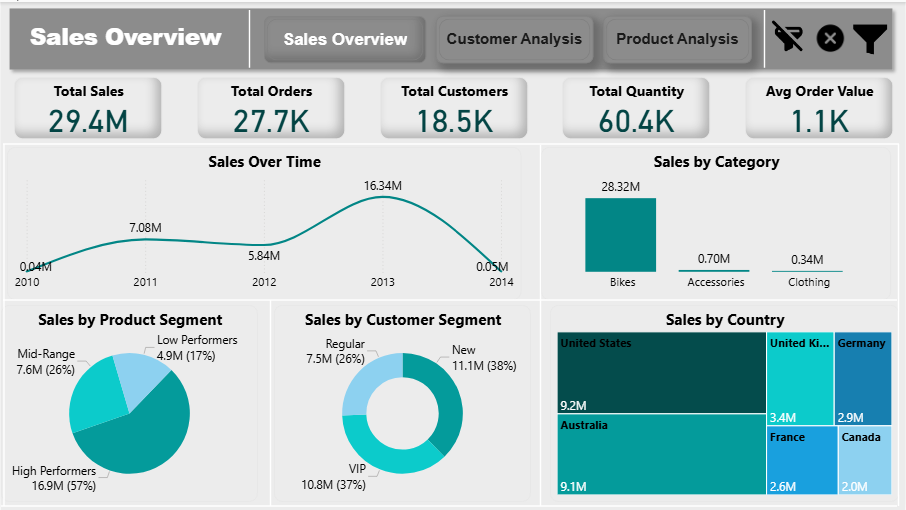

This screenshot's page, from the dashboard's own definition file:
{"tool":"powerbi","page":{"name":"Sales Overview","canvas":[1280,720],"ordinal":0},"visuals":[{"type":"shape","box":[2.8,0,1269.9,104.9],"z":0,"group":"g1"},{"type":"card","title":"Total Sales","fields":{"Values":["All_Measures.Total Sales"]},"box":[18.4,107,209.8,87.9],"z":0},{"type":"textbox","box":[18.4,21.3,316.1,66.6],"z":1000,"group":"g1"},{"type":"card","title":"Total Orders","fields":{"Values":["All_Measures.Total Orders"]},"box":[277.4,107,209.8,87.9],"z":1000},{"type":"actionButton","box":[616.5,19.8,222.5,66.6],"z":2000,"group":"g1"},{"type":"card","title":"Total Customers","fields":{"Values":["All_Measures.Total Customers"]},"box":[536.5,107,209.8,87.9],"z":2000},{"type":"actionButton","box":[853.2,19.8,211.2,66.6],"z":3000,"group":"g1"},{"type":"card","title":"Total Quantity","fields":{"Values":["All_Measures.Total Quantity"]},"box":[795.5,107,209.8,87.9],"z":3000},{"type":"actionButton","box":[372.7,19.8,229.6,66.6],"z":4000,"group":"g1"},{"type":"card","title":"Avg Order Value","fields":{"Values":["All_Measures.Avg Order Value"]},"box":[1054.5,107,209.8,87.9],"z":4000},{"type":"shape","box":[334.5,11.3,35.4,82.2],"z":5000,"group":"g1"},{"type":"shape","box":[2.8,181.4,1269.9,39.7],"z":5000},{"type":"image","box":[1074.3,17,79.4,62.4],"z":6000,"group":"g1"},{"type":"lineChart","title":"Sales Over Time","fields":{"Y":["All_Measures.Total Sales"],"Category":["Calender.Year"]},"box":[8.5,205.5,728.5,216.9],"z":6000},{"type":"image","box":[1201.9,24.1,59.5,58.1],"z":7000,"group":"g1"},{"type":"clusteredColumnChart","title":"Sales by Category","fields":{"Y":["All_Measures.Total Sales"],"Category":["Gold dim_products.category"]},"box":[765.4,205.5,496.1,216.9],"z":7000},{"type":"shape","box":[1074.3,11.3,15.6,82.2],"z":8000,"group":"g1"},{"type":"shape","box":[746.9,202.7,35.4,511.7],"z":8000},{"type":"image","box":[1149.4,21.3,52.4,60.9],"z":9000,"group":"g1"},{"type":"shape","box":[2.8,396.9,1267.1,51],"z":9000},{"type":"treemap","title":"Sales by Country","fields":{"Values":["All_Measures.Total Sales"],"Group":["Gold dim_customers.country"]},"box":[778.1,429.4,494.6,279.2],"z":10000},{"type":"donutChart","title":"Sales by Customer Segment","fields":{"Category":["Gold dim_customers.customer segment"],"Y":["All_Measures.Total Sales"]},"box":[386.9,429.4,364.3,279.2],"z":11000},{"type":"pieChart","title":"Sales by Product Segment","fields":{"Category":["Gold dim_products.product segment"],"Y":["All_Measures.Total Sales"]},"box":[0,429.4,364.3,279.2],"z":12000},{"type":"shape","box":[364.3,422.4,35.4,292],"z":13000},{"type":"shape","box":[1264.3,201.3,15.6,513.1],"z":14000},{"type":"shape","box":[0,201.3,8.5,513.1],"z":15000},{"type":"shape","box":[0,708.7,1269.9,11.3],"z":16000},{"type":"group","id":"g1","title":"Group 1","box":[2.8,0,1269.9,104.9],"z":20000}]}

Visuals, with their boxes in screenshot pixels (x1, y1, x2, y2), scaled from the page's 1280x720 canvas onto the 906x510 screenshot:
shape: 2 0 901 74
"Total Sales" card: 13 76 162 138
textbox: 13 15 237 62
"Total Orders" card: 196 76 345 138
actionButton: 436 14 594 61
"Total Customers" card: 380 76 528 138
actionButton: 604 14 753 61
"Total Quantity" card: 563 76 712 138
actionButton: 264 14 426 61
"Avg Order Value" card: 746 76 895 138
shape: 237 8 262 66
shape: 2 128 901 157
image: 760 12 817 56
"Sales Over Time" lineChart: 6 146 522 299
image: 851 17 893 58
"Sales by Category" clusteredColumnChart: 542 146 893 299
shape: 760 8 771 66
shape: 529 144 554 506
image: 814 15 851 58
shape: 2 281 899 317
"Sales by Country" treemap: 551 304 901 502
"Sales by Customer Segment" donutChart: 274 304 532 502
"Sales by Product Segment" pieChart: 0 304 258 502
shape: 258 299 283 506
shape: 895 143 905 506
shape: 0 143 6 506
shape: 0 502 899 509
"Group 1" group: 2 0 901 74
